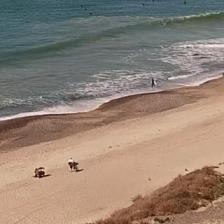surfer: (183, 1, 186, 4), (152, 0, 156, 2), (81, 5, 83, 8), (84, 8, 87, 10), (142, 3, 145, 5), (90, 12, 92, 14)
